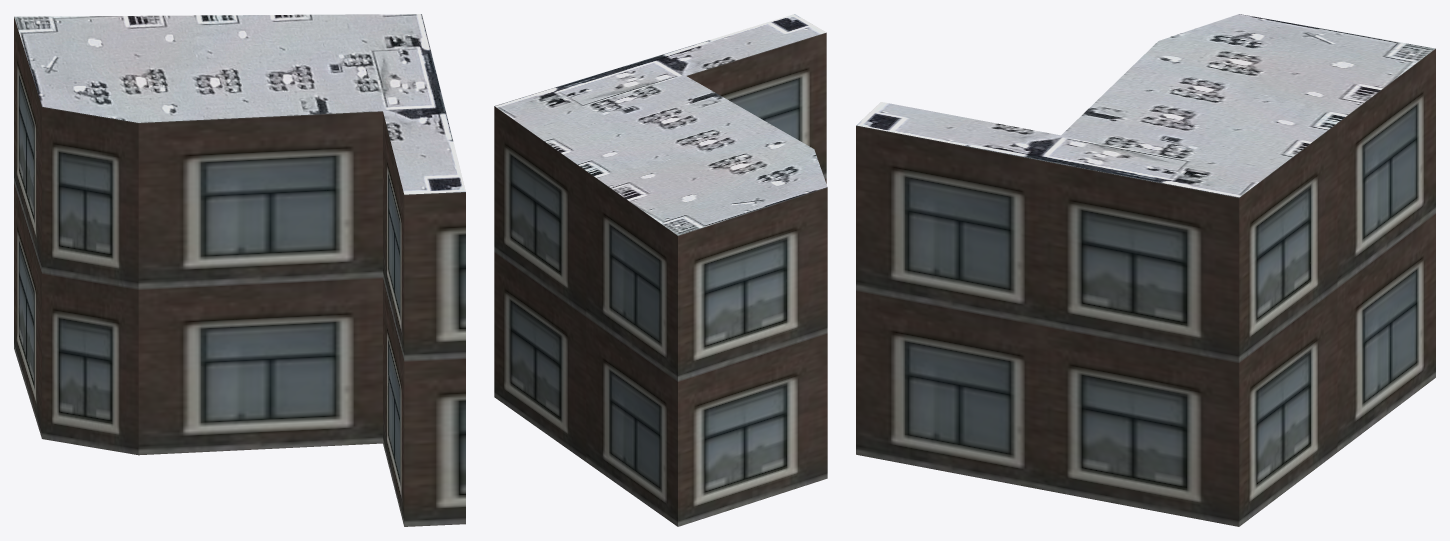
File: ResTex__5022.fbx
The picture shows the model from 3 angles, left to right: view 1: azimuth 30°, elevation 25°; view 2: azimuth 150°, elevation 25°; view 3: azimuth 270°, elevation 25°; orthographic projection. The views are drawn at different scales.
Parts seen in each view (by area): view 1: CityEngineMaterial_16_m, CityEngineMaterial_15_m; view 2: CityEngineMaterial_16_m, CityEngineMaterial_15_m; view 3: CityEngineMaterial_16_m, CityEngineMaterial_15_m.
Part boxes in pixels (x1,y1,x2,y2): CityEngineMaterial_16_m: (14,17,465,526); CityEngineMaterial_15_m: (14,14,465,194); CityEngineMaterial_16_m: (494,32,827,526); CityEngineMaterial_15_m: (495,14,827,235); CityEngineMaterial_16_m: (856,48,1435,526); CityEngineMaterial_15_m: (856,14,1435,197).
Size of the model in its own units: 7.18 by 6 by 9.57.
2 materials, 2 textured.
